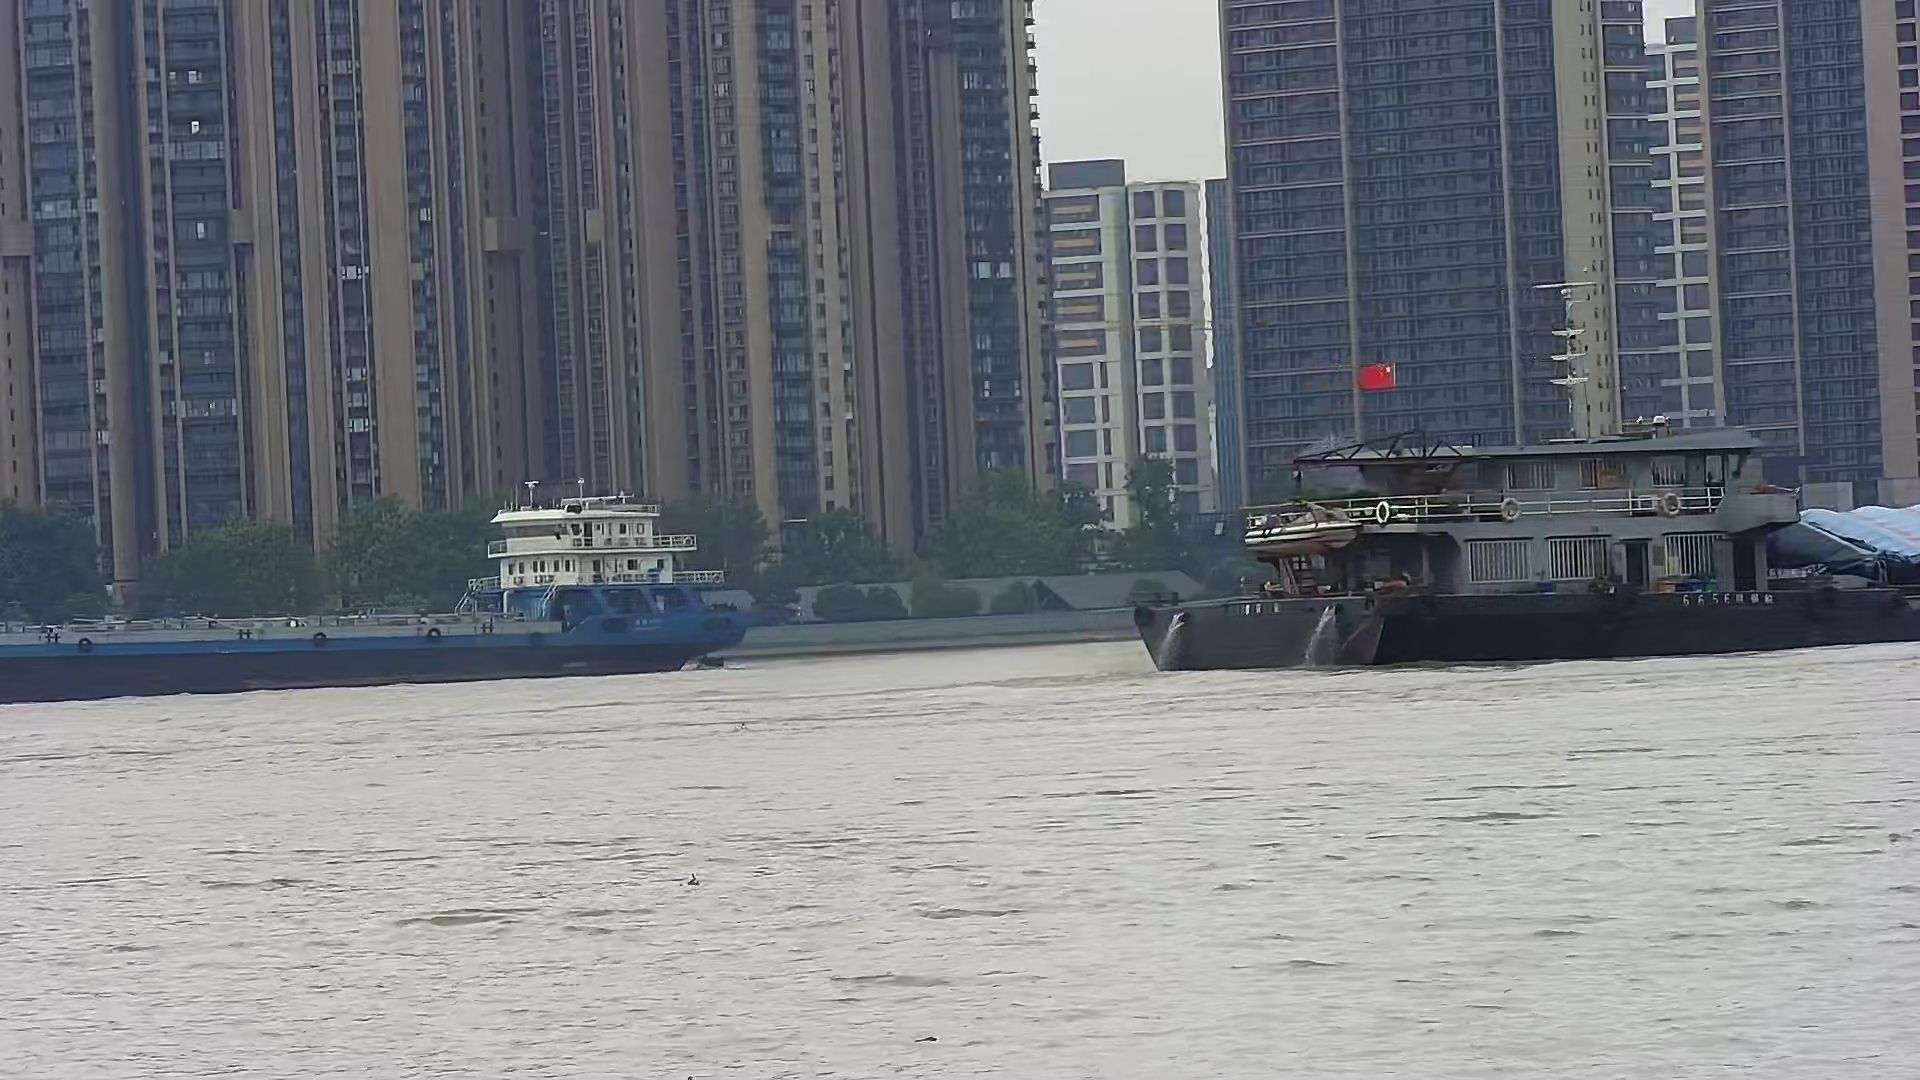ship: (1114, 277, 1920, 698), (1, 468, 761, 704)
